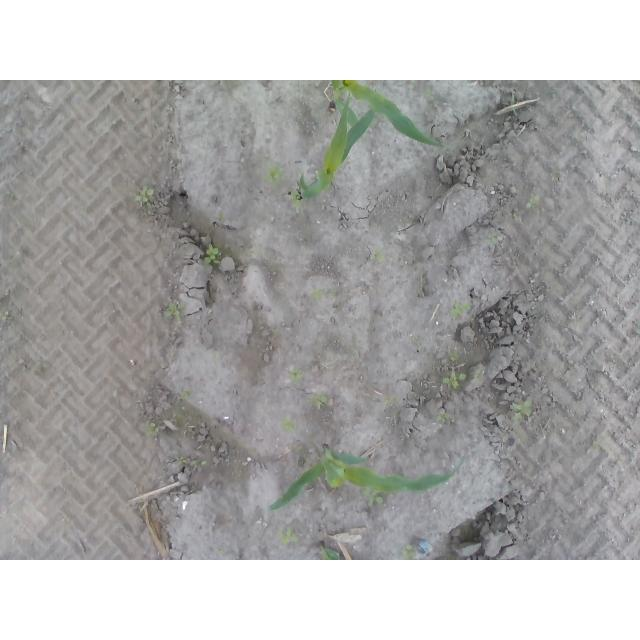Maize: (265, 443, 465, 514), (298, 91, 374, 198), (330, 81, 442, 148), (319, 540, 342, 560)
Weeds: (439, 368, 466, 390), (449, 299, 474, 321), (513, 399, 532, 421), (159, 303, 182, 321), (308, 287, 337, 301), (176, 456, 209, 468), (277, 527, 299, 544), (135, 185, 154, 203), (205, 243, 220, 264), (308, 393, 328, 407), (435, 407, 449, 425), (401, 545, 416, 560), (267, 165, 282, 180), (369, 249, 385, 263), (145, 421, 160, 435), (281, 418, 295, 432), (288, 368, 301, 383), (289, 190, 301, 206), (368, 495, 384, 505), (528, 192, 540, 204), (487, 233, 497, 247), (422, 85, 432, 98), (0, 310, 8, 322), (219, 211, 225, 221)
